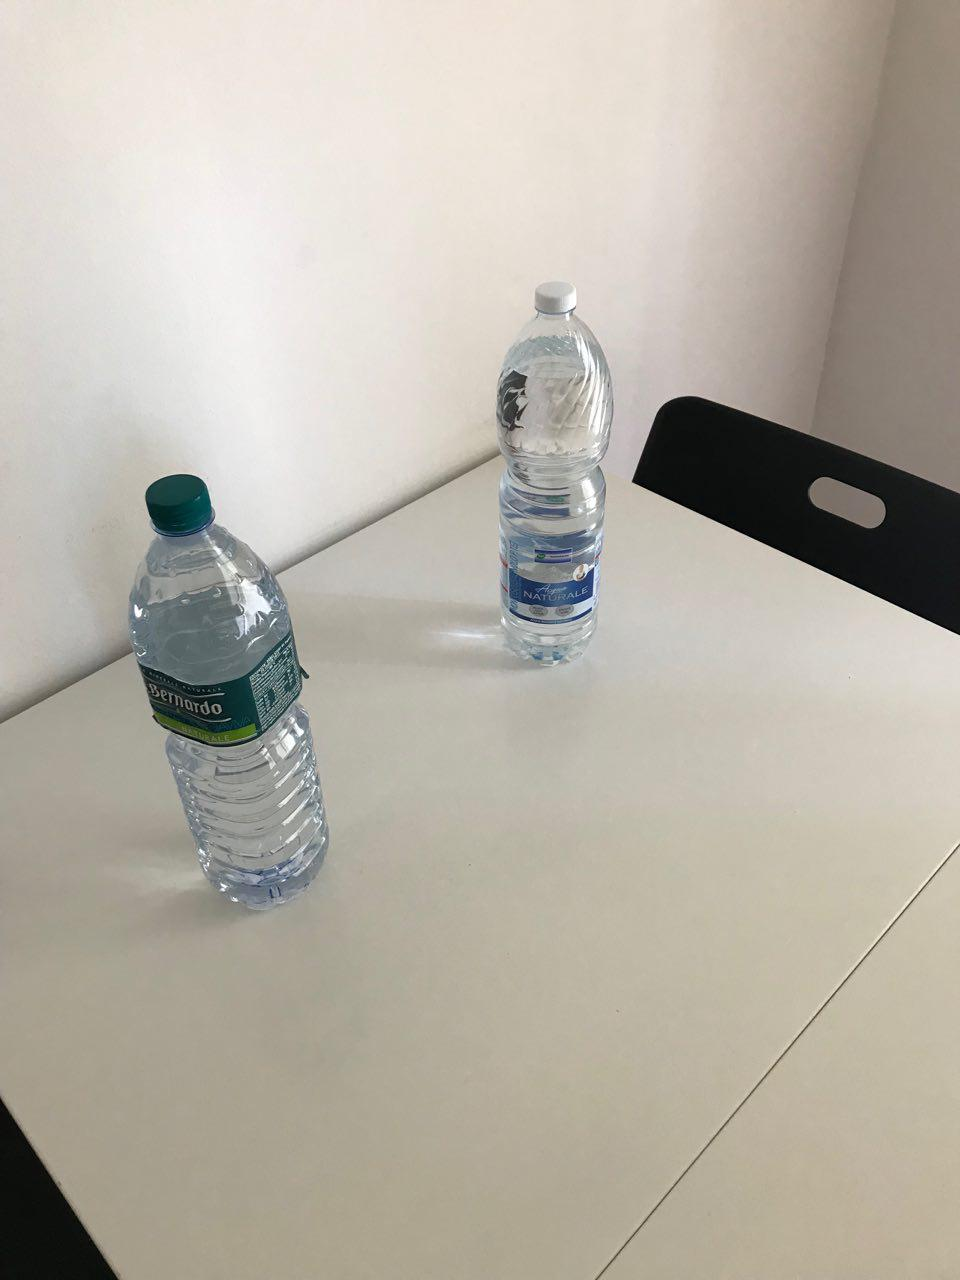san_bernardo: (127, 473, 331, 912)
